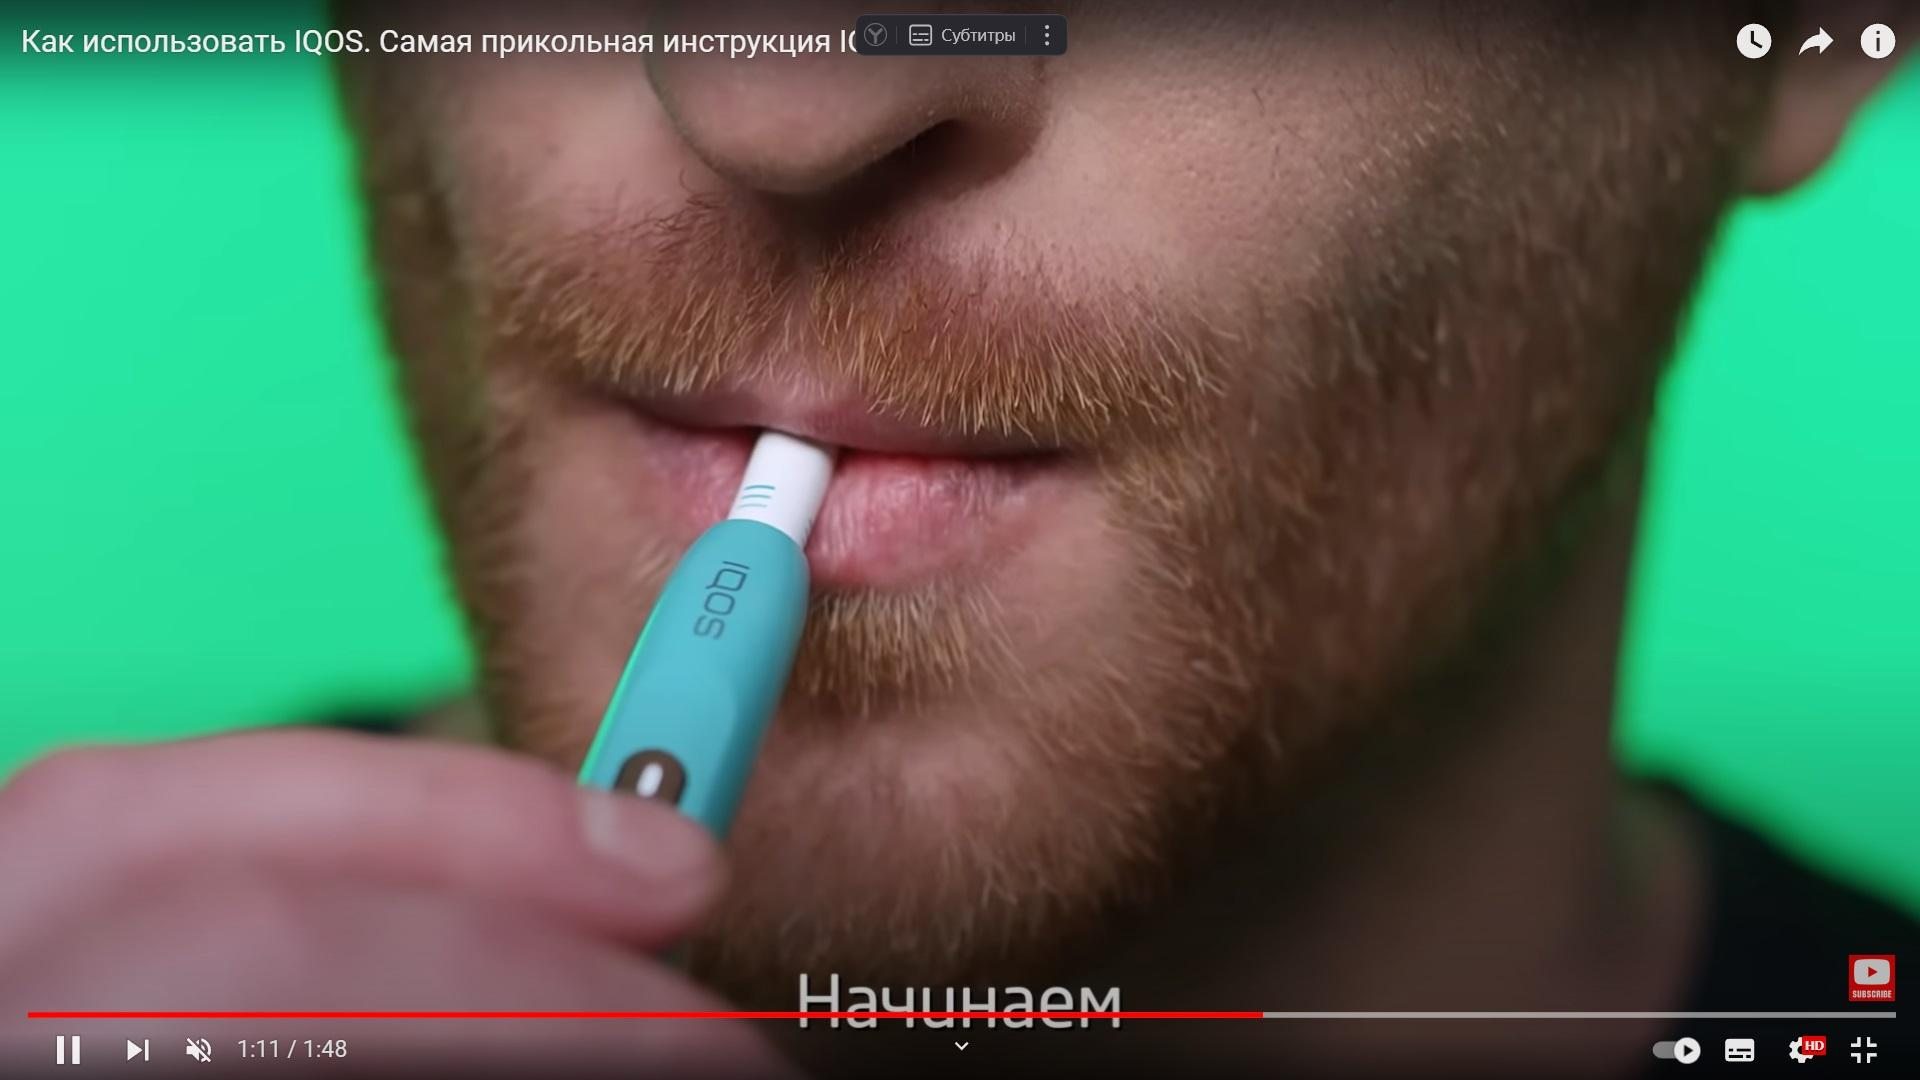iqos: (579, 434, 831, 840)
